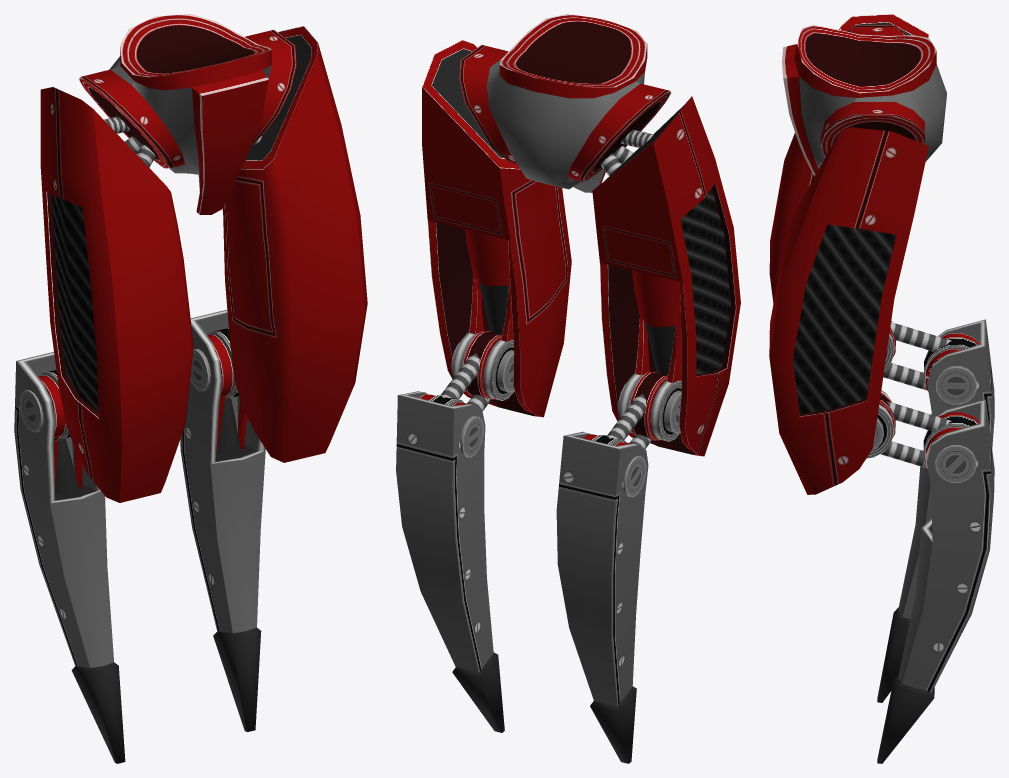
Rendered from legs_l.fbx.
The picture shows the model from 3 angles, left to right: view 1: azimuth 30°, elevation 25°; view 2: azimuth 150°, elevation 25°; view 3: azimuth 270°, elevation 25°; orthographic projection. The views are drawn at different scales.
Parts seen in each view (by area): view 1: LEGS_L; view 2: LEGS_L; view 3: LEGS_L.
Boxes of the visible parts, x1,y1,x2,y2 form: LEGS_L: (14, 14, 367, 763); LEGS_L: (396, 14, 740, 763); LEGS_L: (769, 14, 994, 763).
Size of the model in its own units: 37.98 by 95.44 by 28.33.
